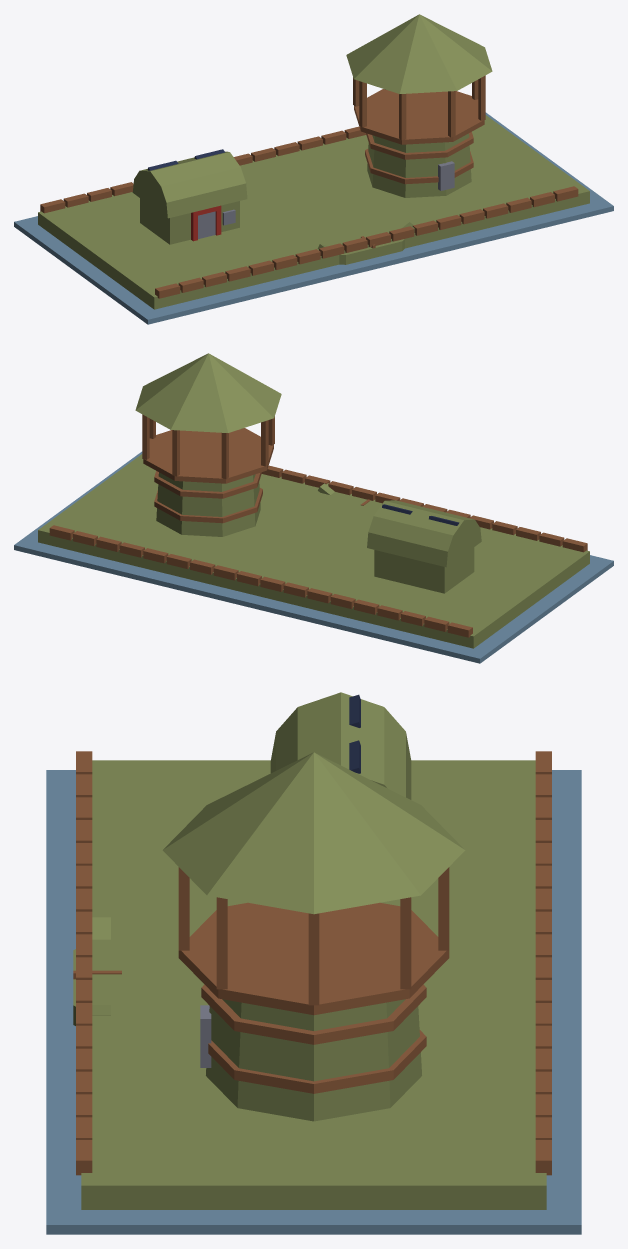
File: house-2x1-1f-totora-a-solar.glb
3 renders of one model, top to bottom at view 1: azimuth 30°, elevation 25°; view 2: azimuth 150°, elevation 25°; view 3: azimuth 270°, elevation 25°, orthographic. The views are drawn at different scales.
Visible parts, largest first — view 1: house-2x1-1f-totora-a-solar; view 2: house-2x1-1f-totora-a-solar; view 3: house-2x1-1f-totora-a-solar.
Part boxes in pixels (<box>): house-2x1-1f-totora-a-solar: <box>14,14,613,324</box>; house-2x1-1f-totora-a-solar: <box>14,353,613,663</box>; house-2x1-1f-totora-a-solar: <box>46,692,581,1234</box>.
Bounding box in the file's own units: 1.99 × 0.73 × 0.99.
Materials: 1 (1 with a texture image).
